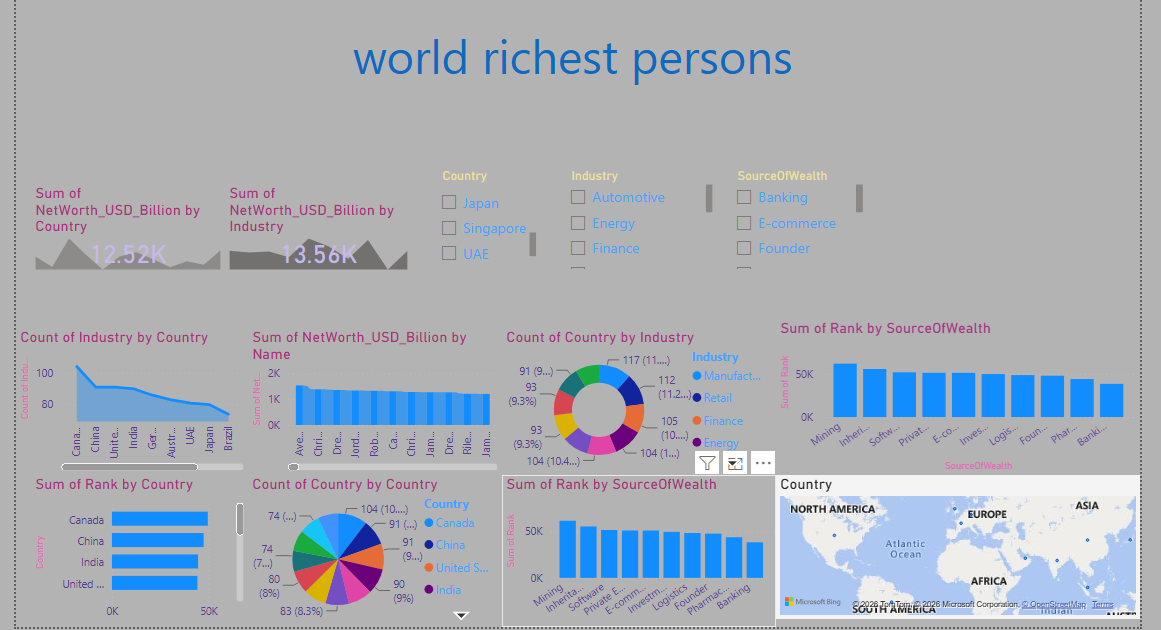

The dashboard page shown, as its layout file describes it:
{"tool":"powerbi","page":{"name":"Page 1","canvas":[1280,720],"ordinal":0},"visuals":[{"type":"stackedAreaChart","fields":{"Y":["CountNonNull(sample_world_richest_people_1000 (1).Industry)"],"Category":["sample_world_richest_people_1000 (1).Country"]},"box":[0,379.4,264.3,167.5],"z":0},{"type":"barChart","fields":{"Category":["sample_world_richest_people_1000 (1).Country"],"Y":["Sum(sample_world_richest_people_1000 (1).Rank)"]},"box":[17.1,546.8,247.2,173.2],"z":1000},{"type":"pieChart","fields":{"Y":["CountNonNull(sample_world_richest_people_1000 (1).Country)"],"Category":["sample_world_richest_people_1000 (1).Country"]},"box":[264.3,546.8,289.4,173.2],"z":2000},{"type":"ribbonChart","fields":{"Y":["Sum(sample_world_richest_people_1000 (1).NetWorth_USD_Billion)"],"Category":["sample_world_richest_people_1000 (1).Name"]},"box":[264.3,379.4,289.4,167.5],"z":3000},{"type":"clusteredColumnChart","fields":{"Y":["Sum(sample_world_richest_people_1000 (1).Rank)"],"Category":["sample_world_richest_people_1000 (1).SourceOfWealth"]},"box":[553.7,546.8,312.2,173.2],"z":4000},{"type":"map","fields":{"Category":["sample_world_richest_people_1000 (1).Country"]},"box":[865.8,546.8,414.7,164.1],"z":5000},{"type":"textbox","box":[17.3,27.4,1234.1,93.6],"z":6000},{"type":"donutChart","fields":{"Category":["sample_world_richest_people_1000 (1).Industry"],"Y":["CountNonNull(sample_world_richest_people_1000 (1).Country)"]},"box":[553.7,379.4,312.2,167.5],"z":7000},{"type":"kpi","fields":{"Indicator":["Sum(sample_world_richest_people_1000 (1).NetWorth_USD_Billion)"],"TrendLine":["sample_world_richest_people_1000 (1).Country"]},"box":[17.1,215.3,221,102.5],"z":8000},{"type":"kpi","fields":{"Indicator":["Sum(sample_world_richest_people_1000 (1).NetWorth_USD_Billion)"],"TrendLine":["sample_world_richest_people_1000 (1).Industry"]},"box":[238.1,215.3,213,102.5],"z":9000},{"type":"slicer","fields":{"Values":["sample_world_richest_people_1000 (1).Country"]},"box":[472.8,192.5,125.3,125.3],"z":10000},{"type":"slicer","fields":{"Values":["sample_world_richest_people_1000 (1).Industry"]},"box":[619.7,192.5,178.9,125.3],"z":11000},{"type":"lineStackedColumnComboChart","fields":{"Y":["Sum(sample_world_richest_people_1000 (1).Rank)"],"Category":["sample_world_richest_people_1000 (1).SourceOfWealth"]},"box":[865.8,369.1,414.7,177.7],"z":12000},{"type":"slicer","fields":{"Values":["sample_world_richest_people_1000 (1).SourceOfWealth"]},"box":[808.9,192.5,160.6,125.3],"z":13000}]}

Visuals, with their boxes on the page's 1280x720 design canvas (x1, y1, x2, y2). These are canvas units, not pixel positions in the 1161x630 screenshot, which may show the page scaled, cropped or inside an application window:
stackedAreaChart - CountNonNull(sample_world_richest_people_1000 (1).Industry) x sample_world_richest_people_1000 (1).Country: locate(0, 379, 264, 547)
barChart - sample_world_richest_people_1000 (1).Country x Sum(sample_world_richest_people_1000 (1).Rank): locate(17, 547, 264, 720)
pieChart - CountNonNull(sample_world_richest_people_1000 (1).Country) x sample_world_richest_people_1000 (1).Country: locate(264, 547, 554, 720)
ribbonChart - Sum(sample_world_richest_people_1000 (1).NetWorth_USD_Billion) x sample_world_richest_people_1000 (1).Name: locate(264, 379, 554, 547)
clusteredColumnChart - Sum(sample_world_richest_people_1000 (1).Rank) x sample_world_richest_people_1000 (1).SourceOfWealth: locate(554, 547, 866, 720)
map - sample_world_richest_people_1000 (1).Country: locate(866, 547, 1280, 711)
textbox: locate(17, 27, 1251, 121)
donutChart - sample_world_richest_people_1000 (1).Industry x CountNonNull(sample_world_richest_people_1000 (1).Country): locate(554, 379, 866, 547)
kpi - Sum(sample_world_richest_people_1000 (1).NetWorth_USD_Billion) x sample_world_richest_people_1000 (1).Country: locate(17, 215, 238, 318)
kpi - Sum(sample_world_richest_people_1000 (1).NetWorth_USD_Billion) x sample_world_richest_people_1000 (1).Industry: locate(238, 215, 451, 318)
slicer - sample_world_richest_people_1000 (1).Country: locate(473, 192, 598, 318)
slicer - sample_world_richest_people_1000 (1).Industry: locate(620, 192, 799, 318)
lineStackedColumnComboChart - Sum(sample_world_richest_people_1000 (1).Rank) x sample_world_richest_people_1000 (1).SourceOfWealth: locate(866, 369, 1280, 547)
slicer - sample_world_richest_people_1000 (1).SourceOfWealth: locate(809, 192, 970, 318)
